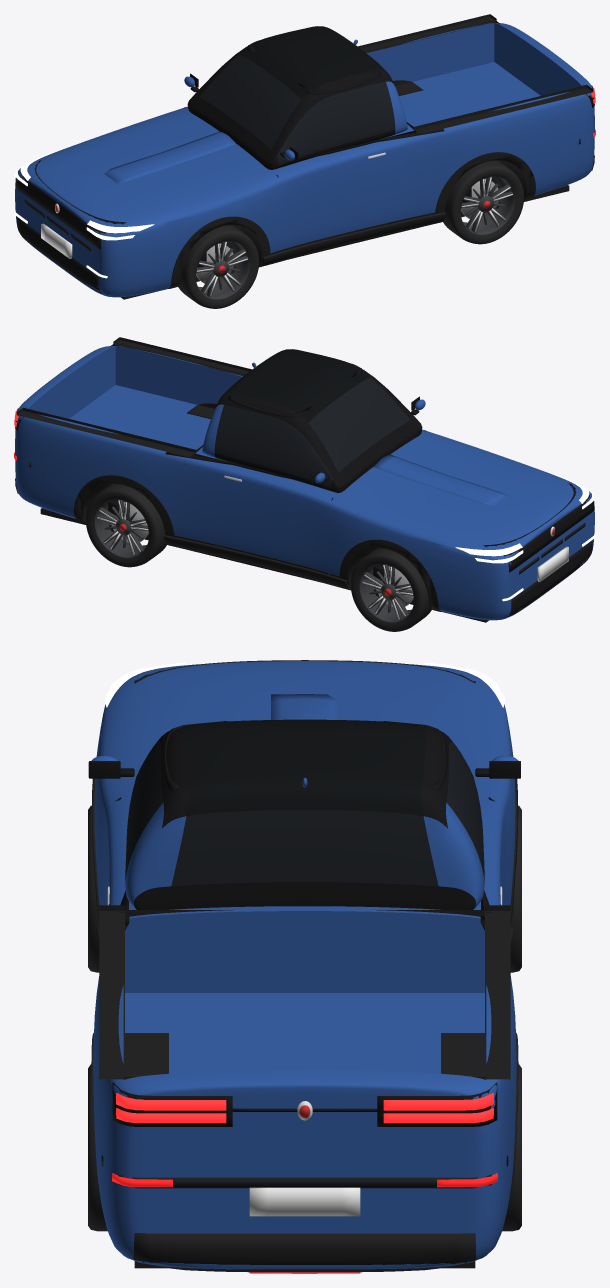
The model's file is pickup.glb.
3 views of the same model, one above another, from view 1: azimuth 30°, elevation 25°; view 2: azimuth 150°, elevation 25°; view 3: azimuth 270°, elevation 25° (orthographic). The views are drawn at different scales.
Visible parts, largest first — view 1: fender_rear_left_panel.005, hood_panel.005, door_front_left_panel.005, side_windows_left_glass.005, bumper_front_panel.005, roof_glass.005, fender_rear_right_panel.005, fender_front_left_panel.005, windshield_glass.005, body_shell_panel.005, trunk_panel.005, wheel_rear_left_tire.005 (+23 smaller); view 2: fender_rear_right_panel.005, hood_panel.005, door_front_right_panel.005, side_windows_right_glass.005, bumper_front_panel.005, roof_glass.005, fender_front_right_panel.005, fender_rear_left_panel.005, windshield_glass.005, body_shell_panel.005, trunk_panel.005, wheel_rear_right_tire.005 (+22 smaller); view 3: body_shell_panel.005, trunk_panel.005, roof_glass.005, rear_window_glass.005, hood_panel.005, diffuser.019, fender_rear_right_panel.005, fender_rear_left_panel.005, side_windows_right_glass.005, side_windows_left_glass.005, bumper_rear_panel.005, fender_front_right_panel.005 (+20 smaller).
Boxes of the visible parts, x1,y1,x2,y2 form: fender_rear_left_panel.005: (385,82,594,221); hood_panel.005: (30,112,267,225); door_front_left_panel.005: (272,138,391,249); side_windows_left_glass.005: (223,69,395,169); bumper_front_panel.005: (15,154,179,295); roof_glass.005: (239,26,407,134); fender_rear_right_panel.005: (367,23,553,95); fender_front_left_panel.005: (110,169,281,253); windshield_glass.005: (200,54,301,149); body_shell_panel.005: (28,66,588,297); trunk_panel.005: (498,24,589,96); wheel_rear_left_tire.005: (443,160,523,244); fender_rear_right_panel.005: (15,376,224,544); hood_panel.005: (342,435,579,548); door_front_right_panel.005: (218,461,337,572); side_windows_right_glass.005: (214,392,381,492); bumper_front_panel.005: (430,477,594,618); roof_glass.005: (202,349,370,457); fender_front_right_panel.005: (328,492,499,576); fender_rear_left_panel.005: (102,346,242,408); windshield_glass.005: (308,377,409,472); body_shell_panel.005: (21,389,581,620); trunk_panel.005: (20,347,111,419); wheel_rear_right_tire.005: (86,483,166,567); body_shell_panel.005: (119,906,490,1269); trunk_panel.005: (146,1070,463,1225); roof_glass.005: (125,719,484,908); rear_window_glass.005: (171,810,438,886); hood_panel.005: (146,661,463,756); diffuser.019: (133,1233,476,1272); fender_rear_right_panel.005: (463,894,516,1225); fender_rear_left_panel.005: (93,894,146,1225); side_windows_right_glass.005: (287,726,484,909); side_windows_left_glass.005: (125,726,315,909); bumper_rear_panel.005: (96,1162,513,1267); fender_front_right_panel.005: (463,673,515,905).
Bounding box in the file's own units: 5.07 × 1.8 × 1.92.
